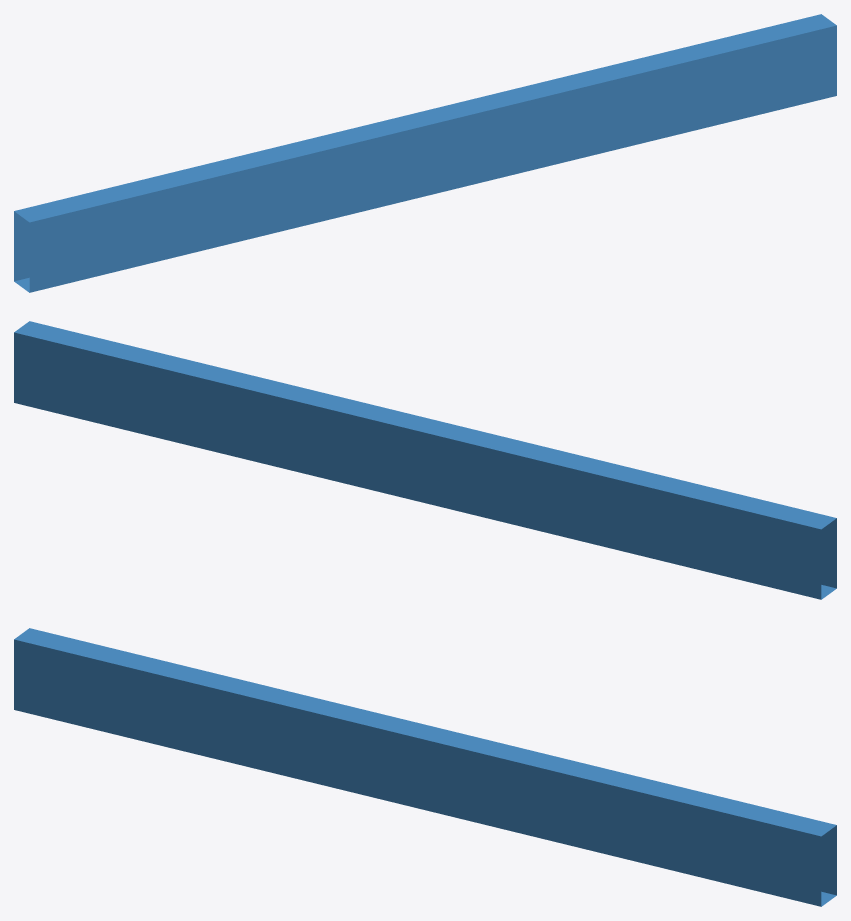
Rendered from Deco_Fence_Base_Mid.fbx.
The picture shows the model from 3 angles, top to bottom: view 1: azimuth 30°, elevation 25°; view 2: azimuth 150°, elevation 25°; view 3: azimuth 330°, elevation 25°; orthographic projection.
Visible parts, largest first — view 1: Deco_Fence_Base_Mid; view 2: Deco_Fence_Base_Mid; view 3: Deco_Fence_Base_Mid.
Part boxes in pixels (bbox=[...]): Deco_Fence_Base_Mid: bbox=[14, 14, 836, 292]; Deco_Fence_Base_Mid: bbox=[14, 321, 836, 599]; Deco_Fence_Base_Mid: bbox=[14, 628, 836, 906].
Bounding box in the file's own units: 900 × 75.03 × 30.
